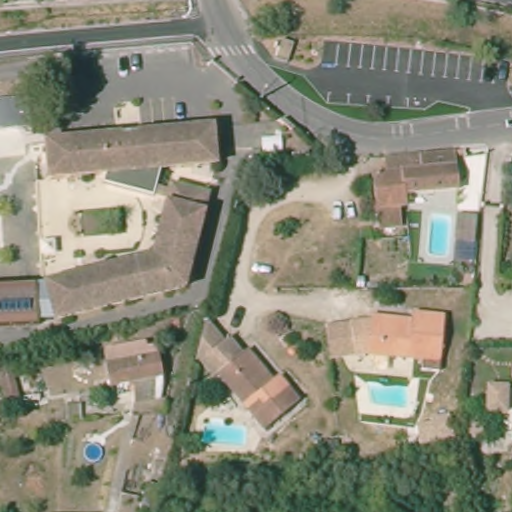pool: (195, 415, 261, 455), (360, 375, 423, 416), (419, 209, 459, 261), (78, 438, 112, 467)
